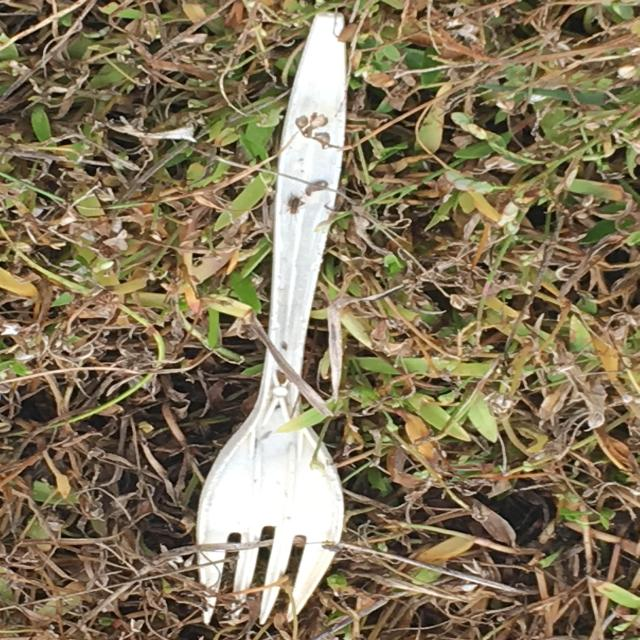litter: (22, 147, 640, 258)
